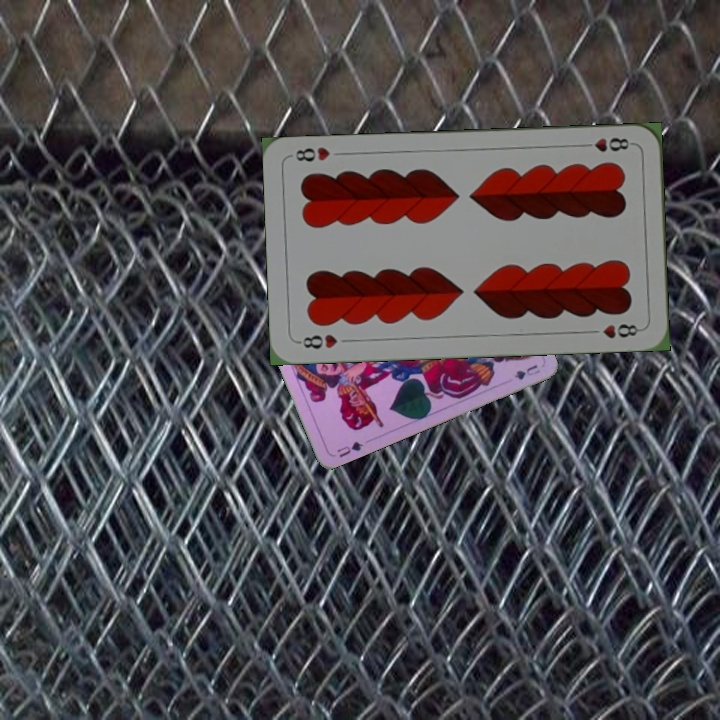GU: (333, 437, 366, 460)
H8: (577, 134, 636, 154), (294, 330, 340, 351)
